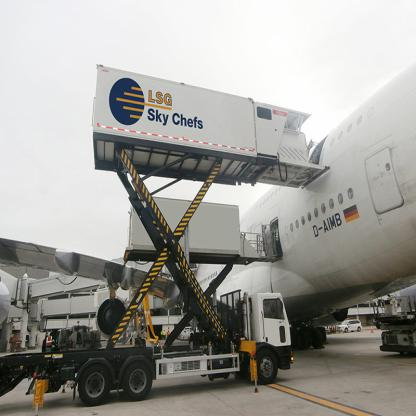Catering truck: (75, 37, 335, 413)
